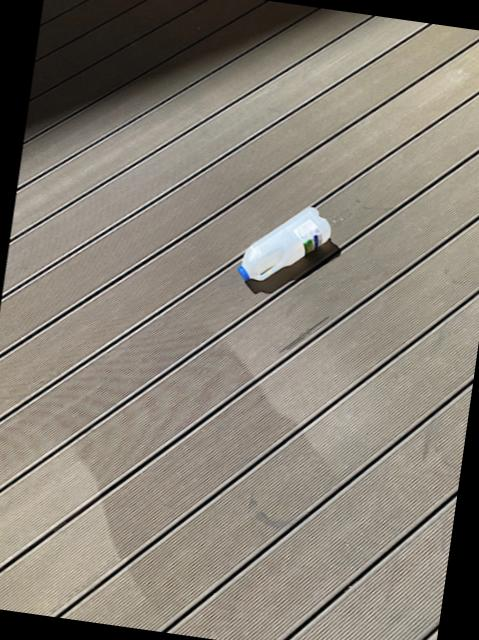plastic: (237, 208, 328, 281)
